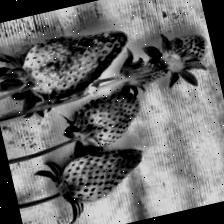Powdery Mildew Fruit: (16, 21, 138, 102)
